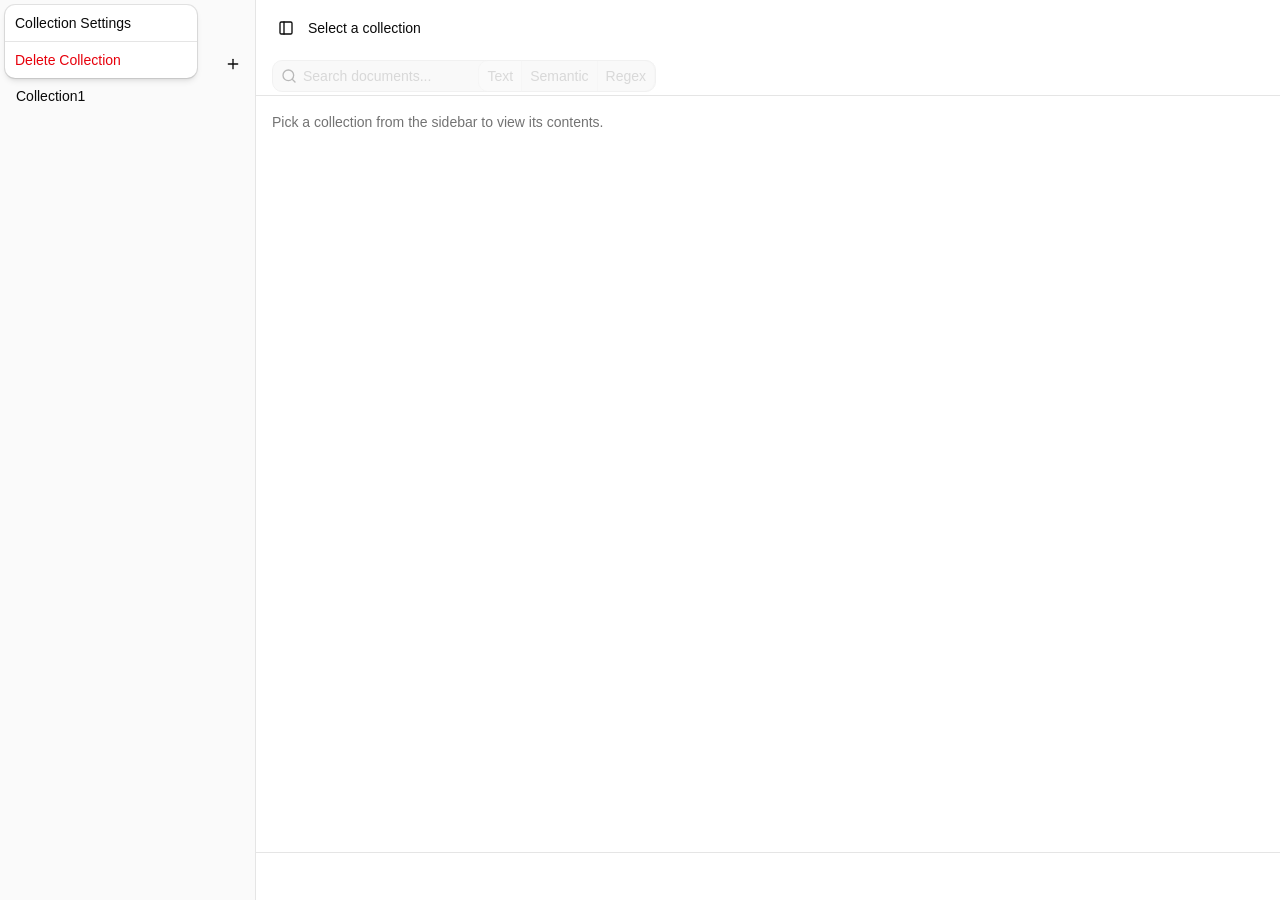
Test: Collections End to End › successfully deletes a collection and renders it
The width and height of the screenshot is (1280, 900).
Click the menu item "Delete Collection" at [68, 60], box [15,52,121,68]
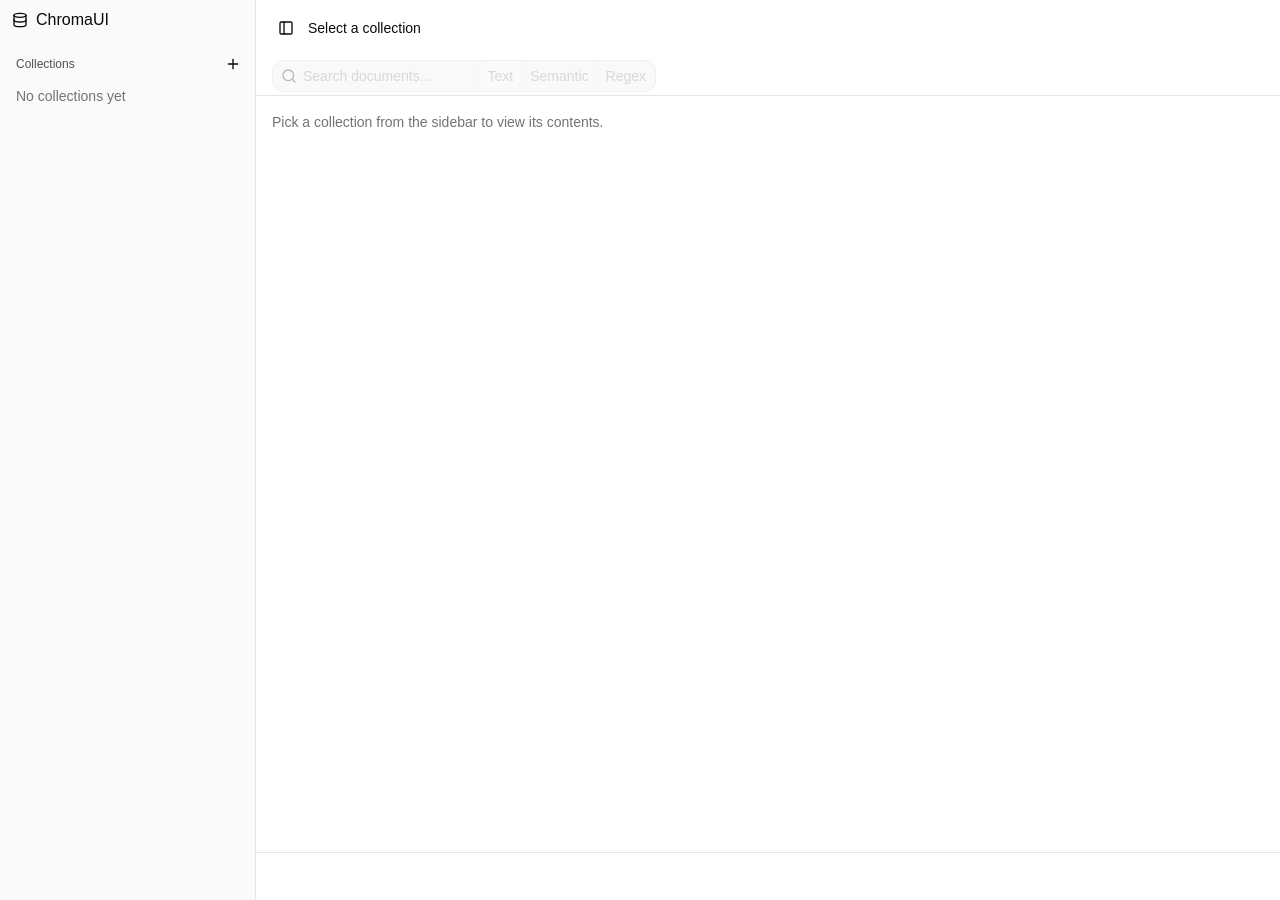
Check: the button "Collection1" is gone
